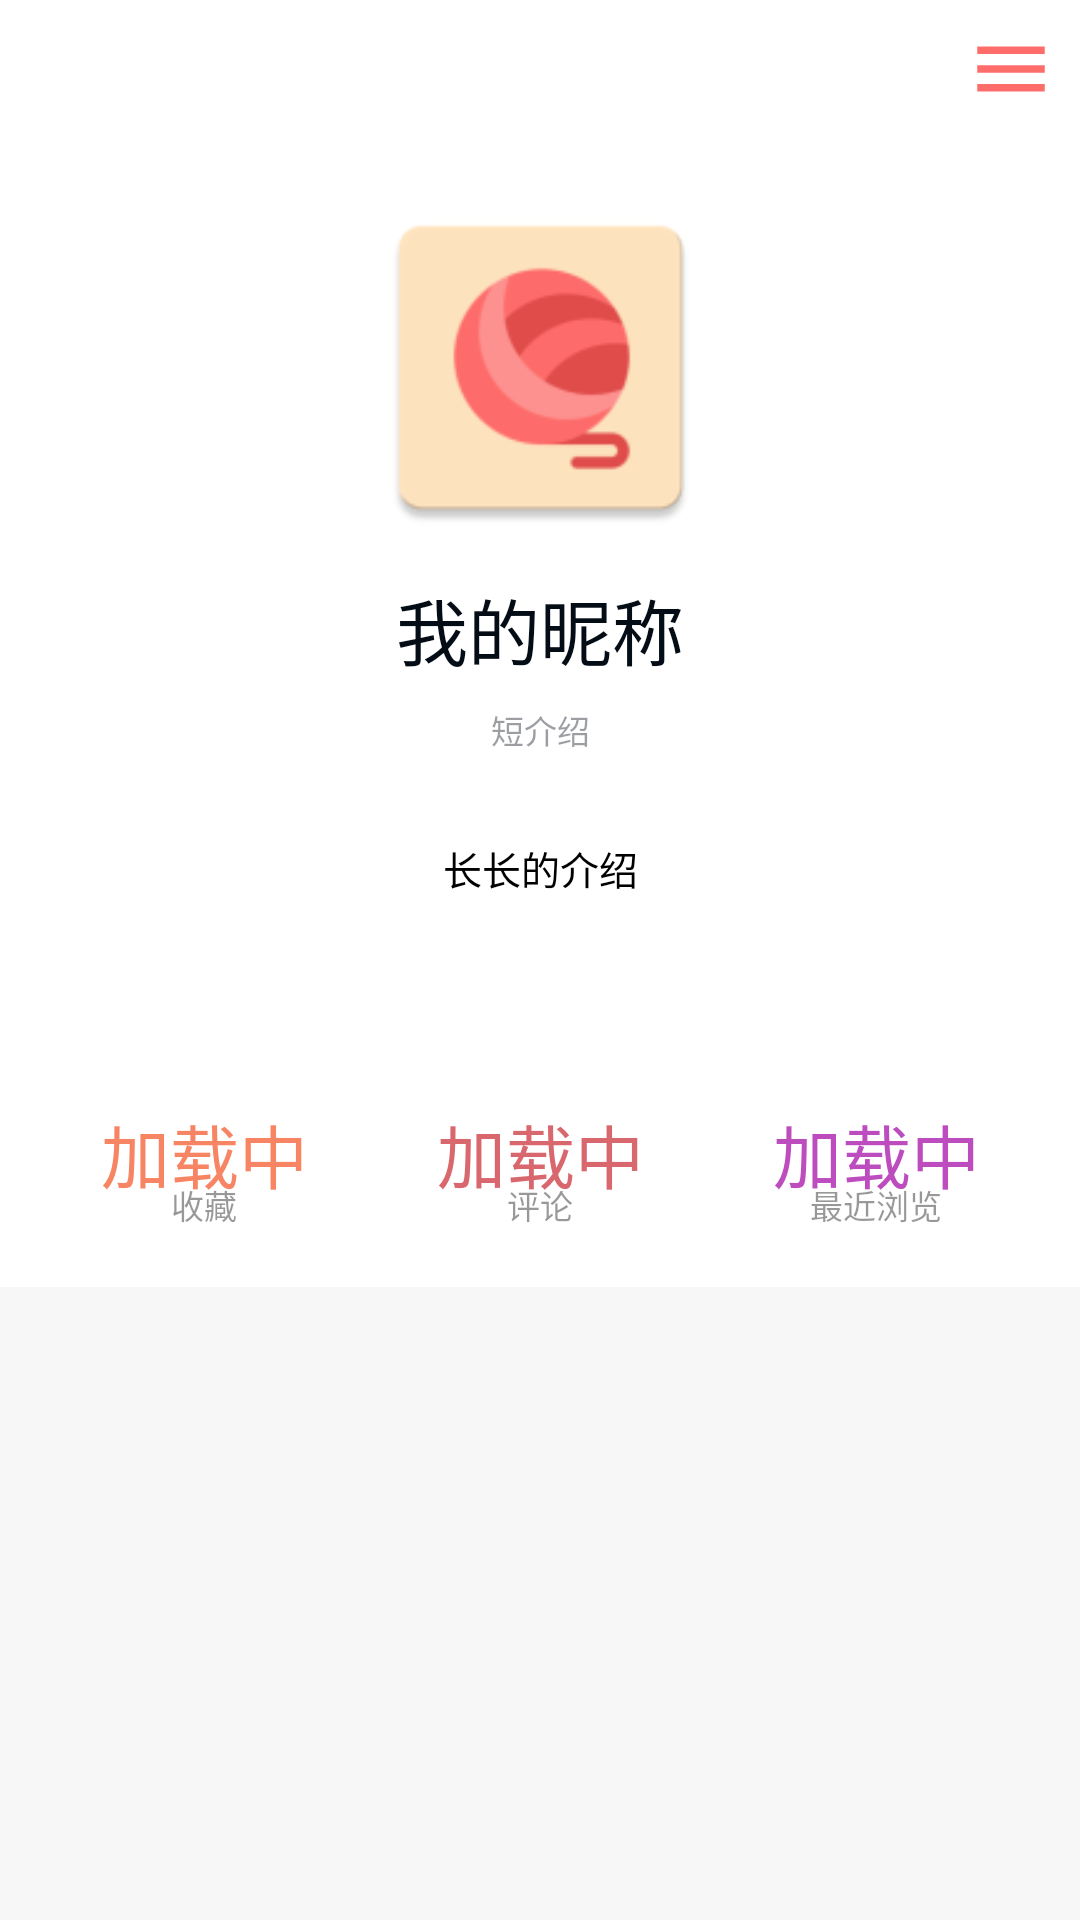

Where to tap for icons on this 1080×1920 app screen, as (x,y):
menu: (1011,69)
